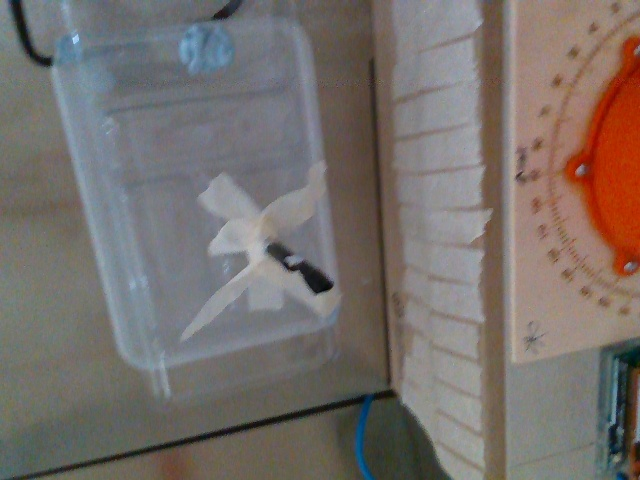test_strip: (282, 251, 335, 296)
